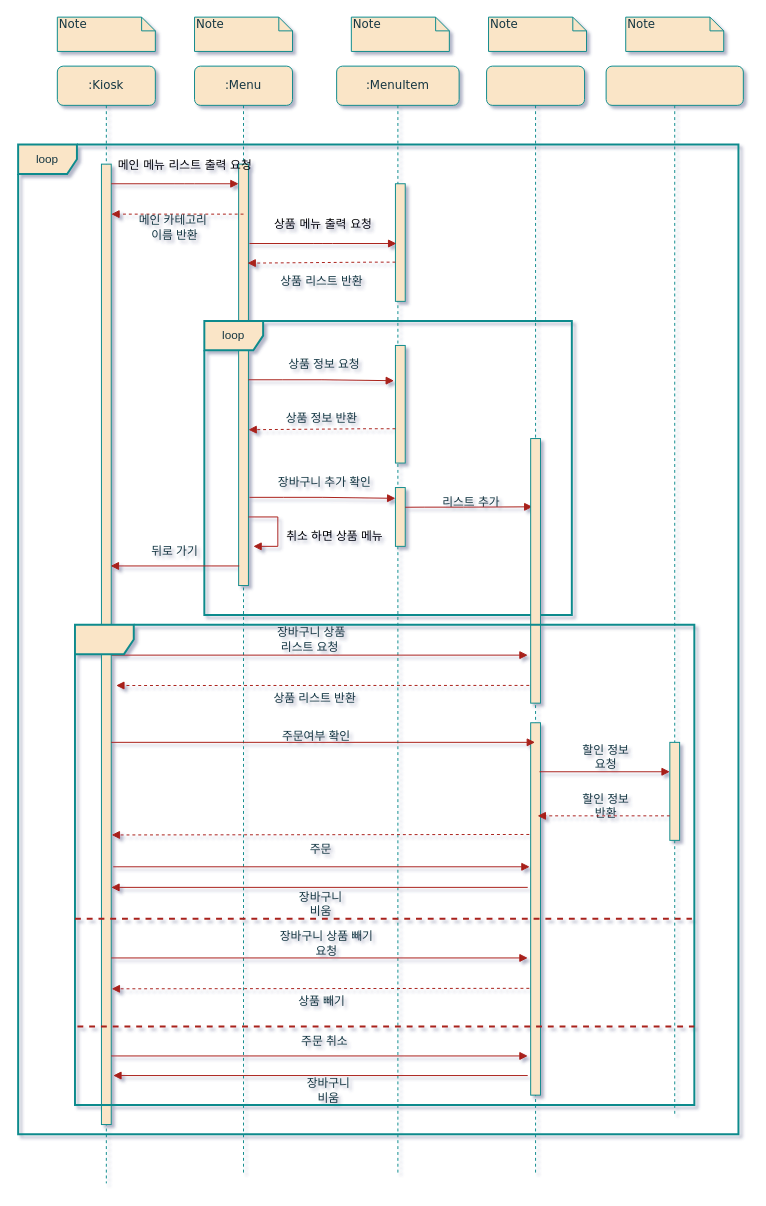
This 766x1206 diagram has some shape labels left out. The box of each missing label's shape, as (x1, y1, x2, y2) in pixels:
:Discount: (605, 65, 743, 1115)
:ShoppingCart: (486, 65, 585, 1174)
alt: (74, 623, 695, 1105)
